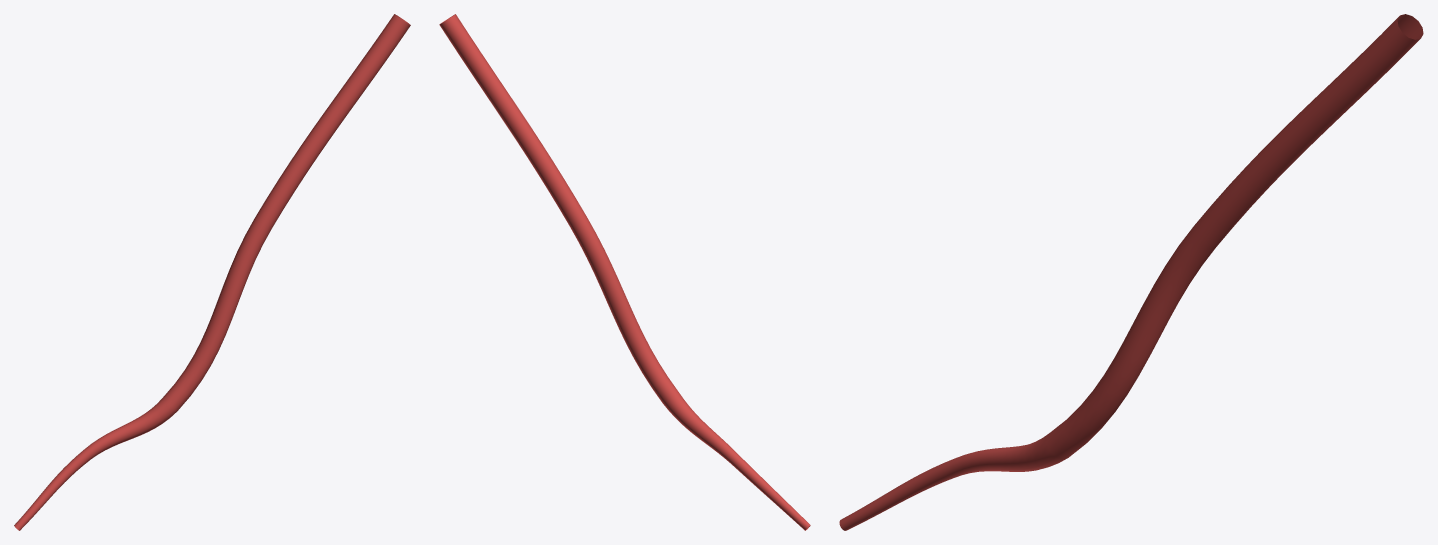
3 renders of one model, left to right at view 1: azimuth 30°, elevation 25°; view 2: azimuth 150°, elevation 25°; view 3: azimuth 330°, elevation 25°, orthographic. The views are drawn at different scales.
Visible parts, largest first — view 1: 左侧上唇动脉; view 2: 左侧上唇动脉; view 3: 左侧上唇动脉.
Part boxes in pixels (x1,y1,x2,y2): 左侧上唇动脉: [14, 14, 410, 530]; 左侧上唇动脉: [439, 14, 810, 530]; 左侧上唇动脉: [839, 14, 1423, 530].
Size of the model in its own units: 0.0323 by 0.0345 by 0.00273.
